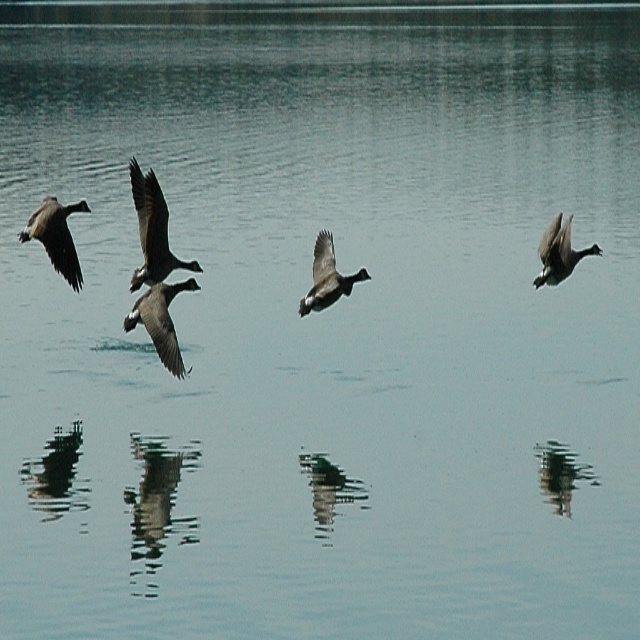Duck: (133, 159, 206, 293), (118, 274, 199, 374), (18, 192, 88, 295), (295, 220, 371, 307), (533, 212, 604, 300)
